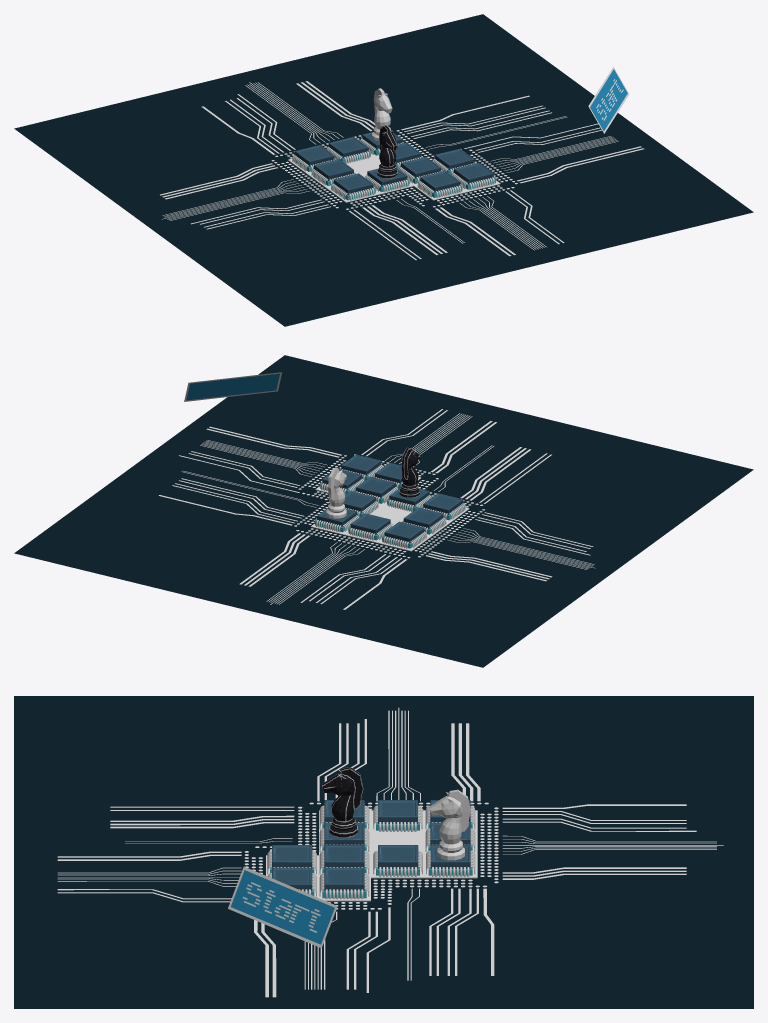
File: Chess4.fbx
The picture shows the model from 3 angles, top to bottom: view 1: azimuth 30°, elevation 25°; view 2: azimuth 150°, elevation 25°; view 3: azimuth 270°, elevation 25°; orthographic projection. The views are drawn at different scales.
Visible parts, largest first — view 1: Floor_low, Plane.039, Plane.057, Plane.037, Plane.041, Plane.038, Plane.035, Plane.034, Plane.040, Circle.004, Horse_low.001, Horse_low.002 (+8 smaller); view 2: Floor_low, Plane.039, Plane.057, Plane.037, Plane.035, Plane.041, Plane.038, Circle.004, Plane.034, Plane.040, Horse_low.002, Horse_low.001 (+6 smaller); view 3: Floor_low, Plane.035, Plane.057, Plane.038, Plane.039, Plane.034, Plane.040, Plane.037, Horse_low.002, Horse_low.001, Plane.041, Circle.004 (+9 smaller).
Part boxes in pixels (x1,y1,x2,y2): Floor_low: [14, 14, 753, 326]; Plane.039: [160, 163, 330, 229]; Plane.057: [201, 81, 374, 154]; Plane.037: [464, 123, 644, 183]; Plane.041: [401, 95, 567, 149]; Plane.038: [435, 190, 564, 256]; Plane.035: [588, 67, 629, 133]; Plane.034: [288, 153, 500, 202]; Plane.040: [349, 198, 464, 260]; Circle.004: [271, 130, 434, 209]; Horse_low.001: [377, 125, 397, 178]; Horse_low.002: [372, 88, 392, 141]; Floor_low: [14, 355, 753, 667]; Plane.039: [426, 512, 595, 581]; Plane.057: [239, 533, 407, 609]; Plane.037: [179, 426, 341, 492]; Plane.035: [184, 372, 282, 401]; Plane.041: [158, 471, 318, 525]; Plane.038: [361, 409, 496, 473]; Circle.004: [294, 487, 484, 558]; Plane.034: [311, 477, 469, 551]; Plane.040: [433, 445, 551, 503]; Horse_low.002: [326, 467, 346, 518]; Horse_low.001: [399, 447, 419, 497]; Floor_low: [14, 696, 753, 1008]; Plane.035: [228, 866, 337, 948]; Plane.057: [502, 804, 723, 879]; Plane.038: [57, 851, 241, 902]; Plane.039: [317, 707, 480, 801]; Plane.034: [266, 810, 477, 901]; Plane.040: [110, 806, 294, 843]; Plane.037: [254, 907, 390, 997]; Horse_low.002: [429, 789, 470, 860]; Horse_low.001: [322, 767, 363, 837]; Plane.041: [407, 888, 494, 980]; Circle.004: [298, 802, 498, 890].
Size of the model in its own units: 1185 by 156 by 1185.
